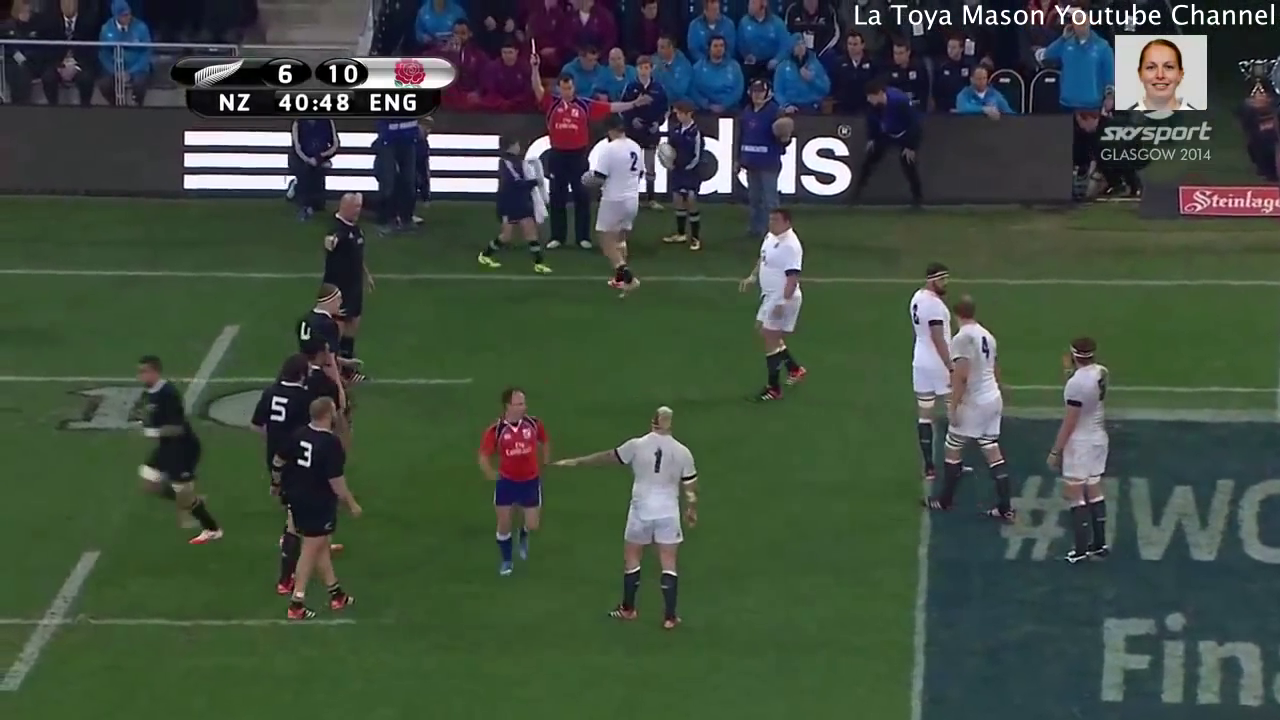player: (551, 399, 694, 644), (122, 352, 235, 548), (937, 302, 1016, 523), (470, 377, 550, 588), (287, 400, 354, 628), (1050, 338, 1117, 566), (744, 205, 817, 408), (901, 247, 949, 480), (585, 124, 646, 294), (285, 284, 351, 358), (317, 192, 369, 281), (248, 360, 304, 433)
